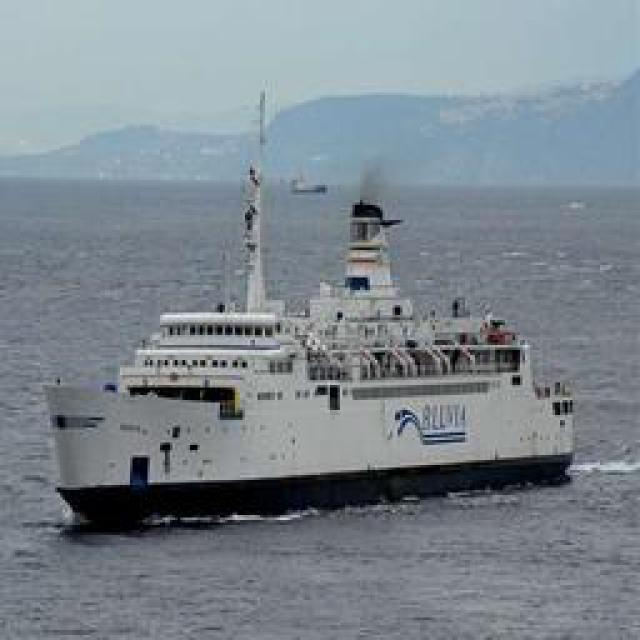Ship: (42, 121, 580, 516)
